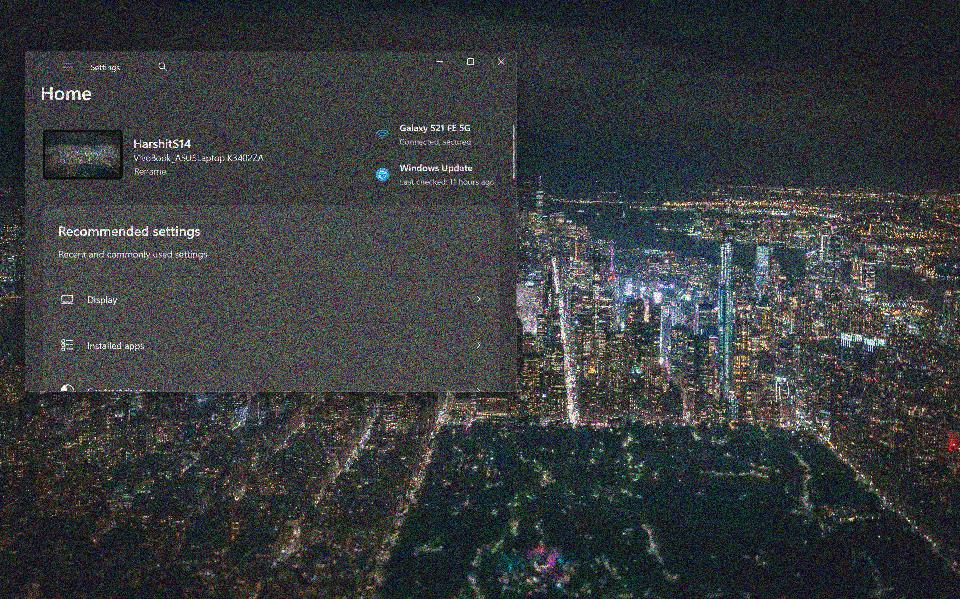close_button: (489, 51, 511, 73)
maximize_button: (460, 50, 482, 73)
minimize_button: (428, 51, 450, 73)
